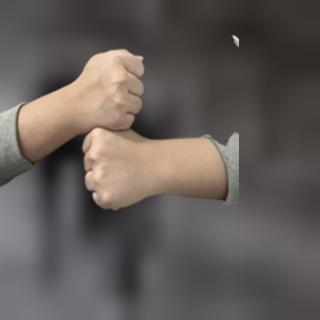CAREFUL: (5, 44, 240, 211)
